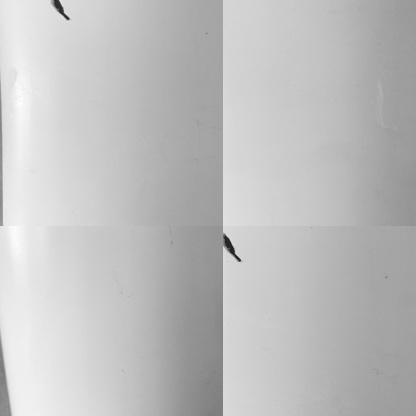kongdong: (222, 231, 244, 263), (49, 1, 70, 21)
